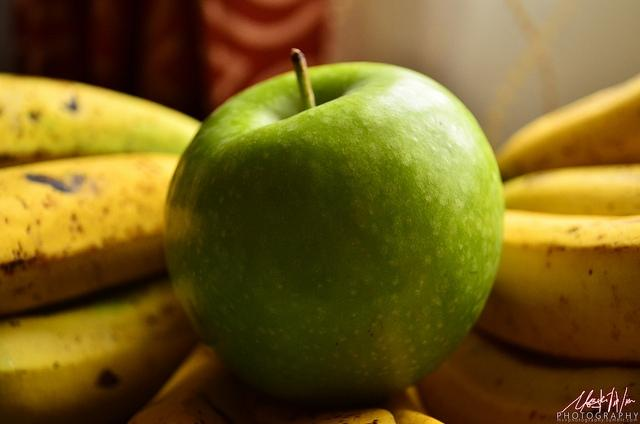apple: (162, 48, 506, 410)
banana: (2, 152, 180, 316), (0, 277, 196, 424), (475, 209, 640, 363), (414, 332, 638, 423), (1, 72, 202, 168), (495, 73, 640, 182), (126, 340, 263, 424), (502, 163, 640, 215), (384, 382, 446, 424), (294, 408, 395, 424)
